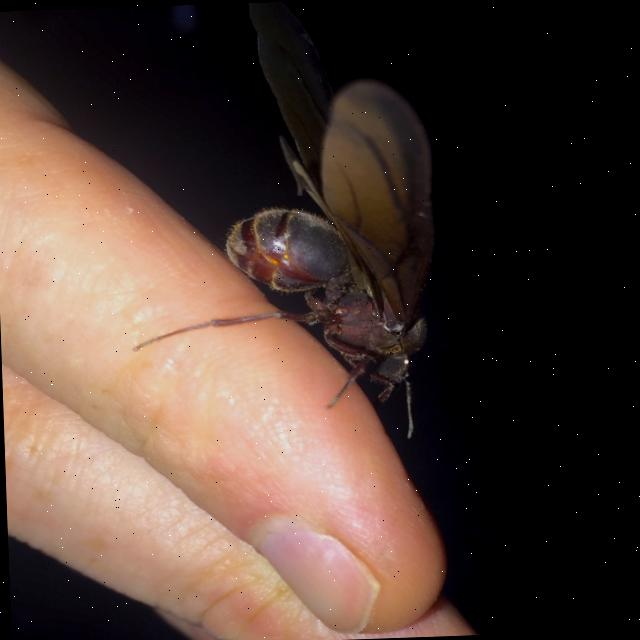Alive-Female-Alate: (118, 0, 442, 449)
